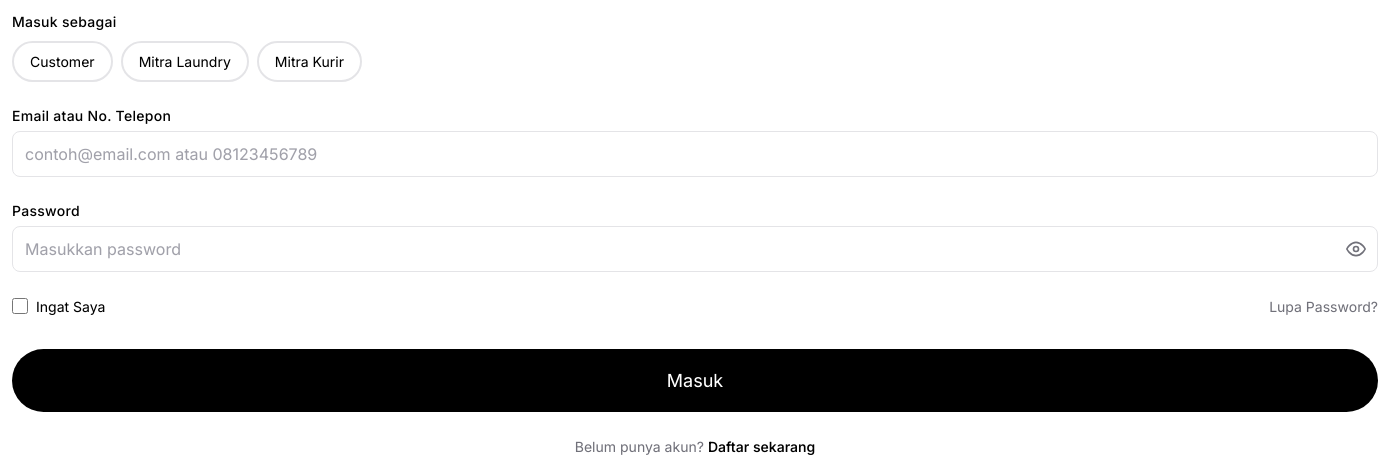
LoginForm › role selection › updates submit button text based on selected role
Click the button "Customer" at (62, 61), box [12,41,113,82]
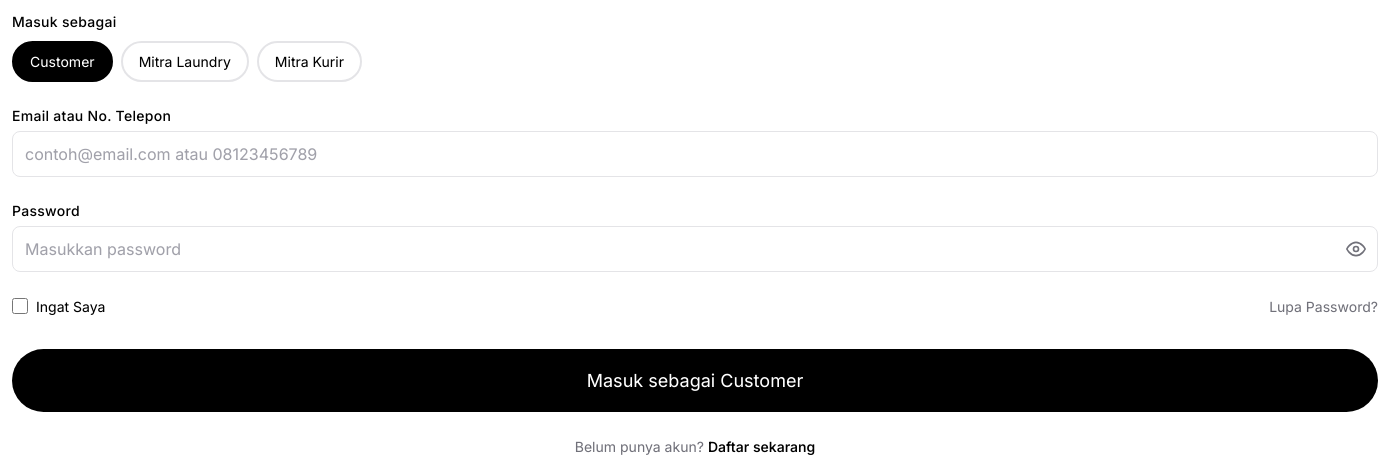
Result: the button "Masuk sebagai Customer" is shown at [12,349,1378,412]
